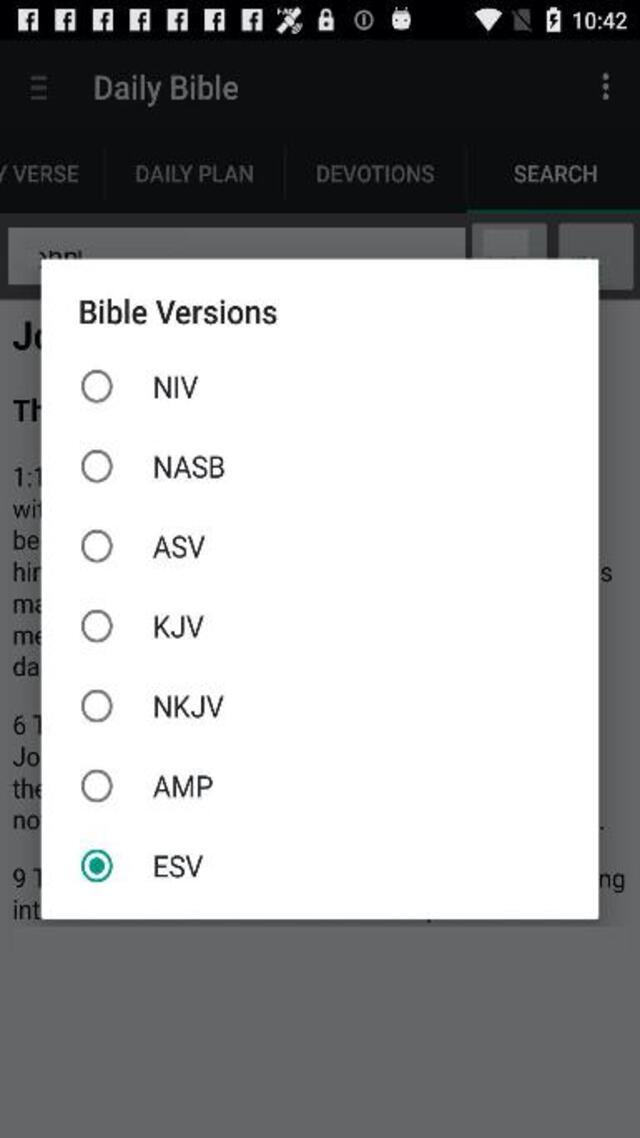CheckedTextView: (82, 449, 225, 483), (82, 689, 224, 723), (81, 769, 212, 803), (82, 529, 205, 563), (82, 609, 205, 643), (81, 849, 202, 883), (81, 369, 198, 403)
Icon: (602, 74, 608, 100)
Text: (80, 298, 278, 324), (95, 73, 238, 108), (136, 166, 252, 184), (317, 166, 433, 184), (154, 454, 224, 478), (156, 694, 223, 718), (514, 166, 596, 184), (1, 166, 79, 184), (154, 534, 206, 558), (153, 776, 213, 796), (156, 614, 203, 638), (156, 854, 203, 878), (154, 374, 198, 398)
